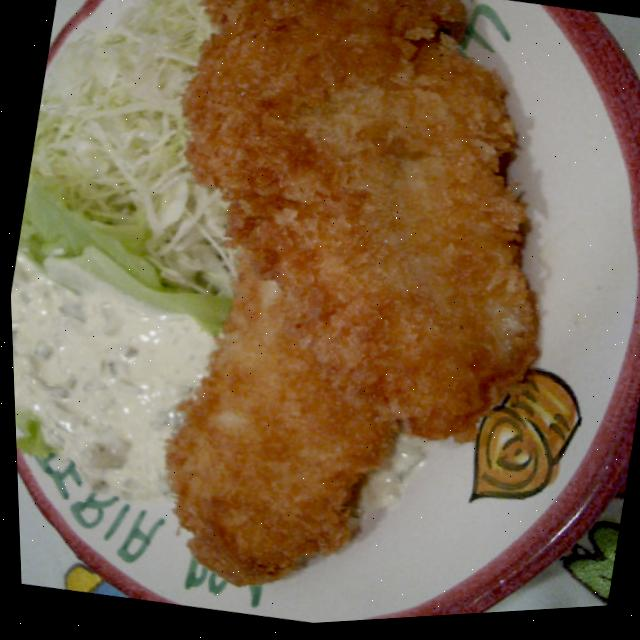炸货点心: (85, 0, 549, 636)
熟制海鲜: (85, 0, 549, 636)
